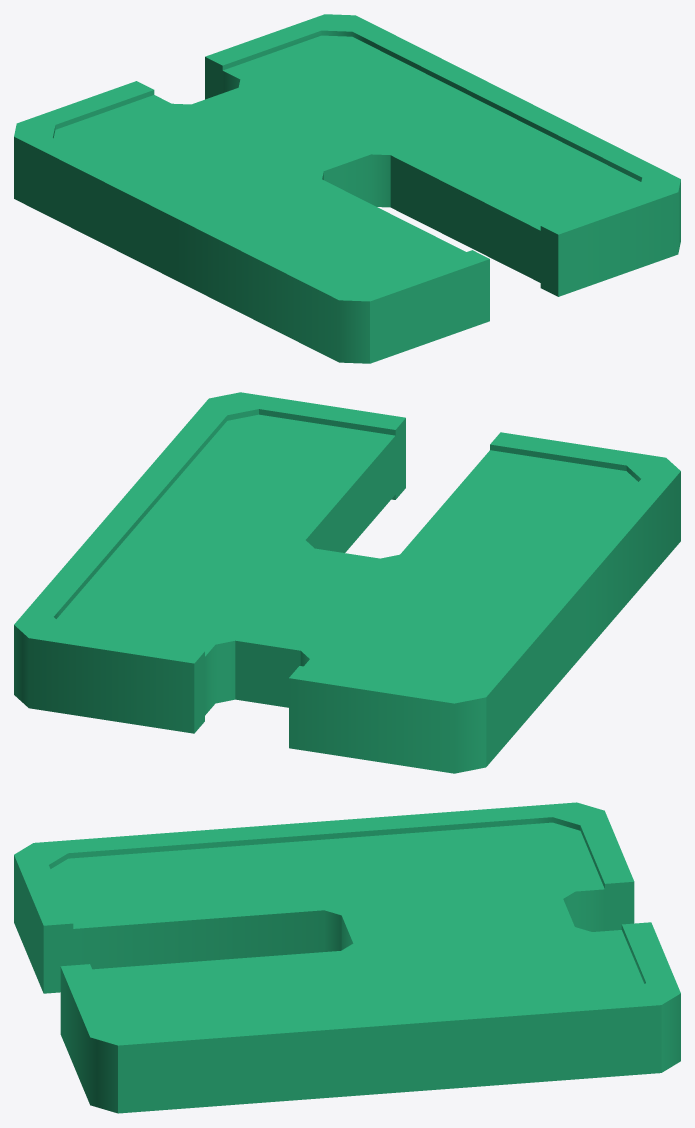
Rendered from SM_signweight_01.glb.
The picture shows the model from 3 angles, top to bottom: view 1: azimuth 30°, elevation 25°; view 2: azimuth 150°, elevation 25°; view 3: azimuth 270°, elevation 25°; orthographic projection. The views are drawn at different scales.
Visible parts, largest first — view 1: weight_005; view 2: weight_005; view 3: weight_005.
Boxes of the visible parts, <box> form: weight_005: <box>14,14,680,363</box>; weight_005: <box>14,392,680,773</box>; weight_005: <box>14,802,680,1113</box>.
Size of the model in its own units: 1.01 by 0.131 by 1.17.
